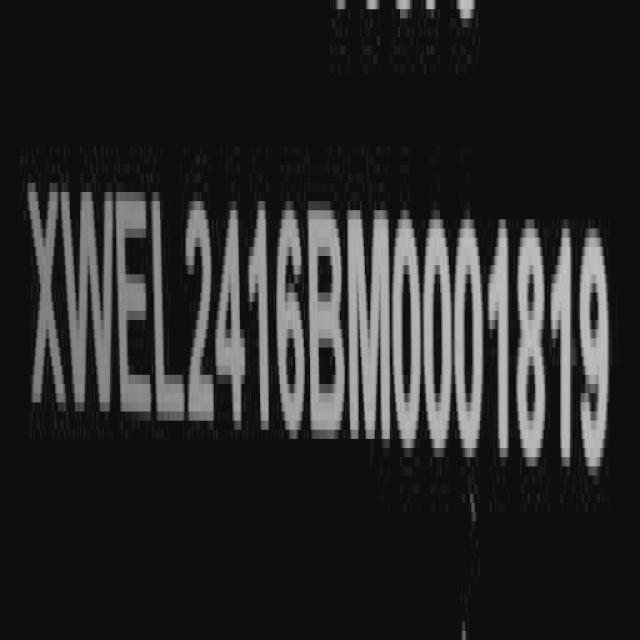0: (452, 209, 482, 459), (423, 215, 452, 458), (396, 210, 424, 455)
1: (551, 219, 573, 476), (488, 211, 510, 465), (250, 196, 271, 443)
2: (188, 196, 215, 441)
4: (216, 201, 247, 441)
6: (278, 201, 309, 445)
8: (518, 216, 547, 470)
9: (582, 228, 612, 478)
B: (310, 200, 347, 445)
E: (118, 187, 151, 428)
L: (153, 192, 183, 432)
M: (349, 203, 392, 451)
W: (65, 180, 117, 424)
X: (32, 175, 67, 423)
